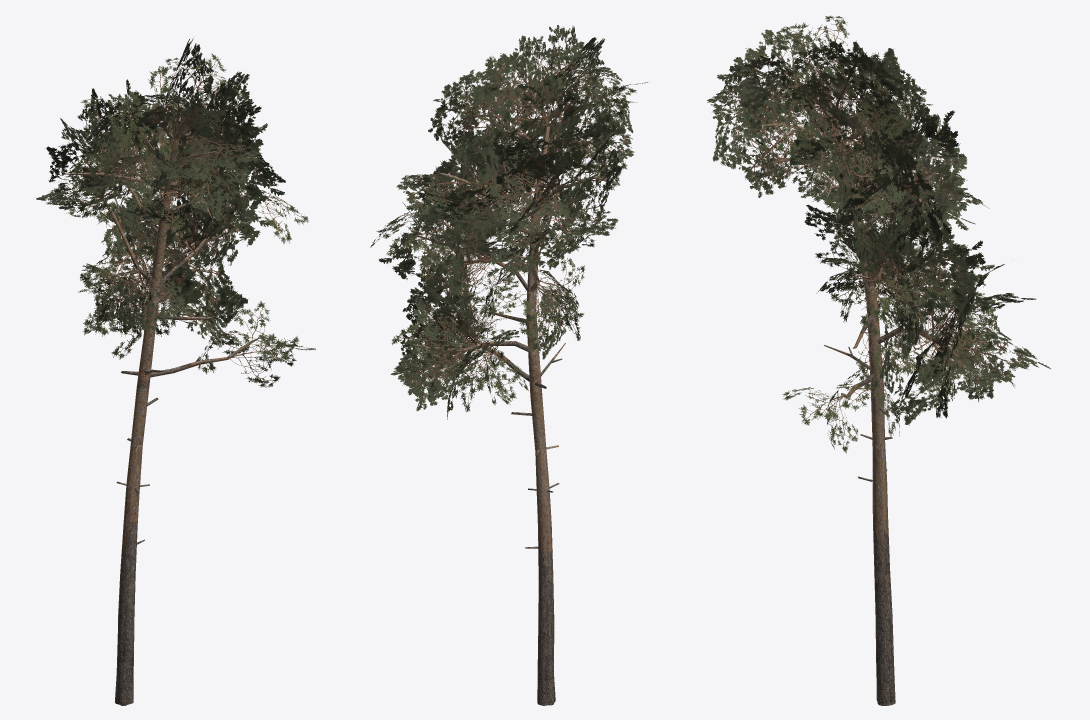
Rendered from tree_b_ref.fbx.
3 renders of one model, left to right at view 1: azimuth 30°, elevation 25°; view 2: azimuth 150°, elevation 25°; view 3: azimuth 270°, elevation 25°, orthographic. The views are drawn at different scales.
Parts seen in each view (by area): view 1: renderMesh0; view 2: renderMesh0; view 3: renderMesh0.
Part boxes in pixels (x1,y1,x2,y2): renderMesh0: (36, 38, 315, 705); renderMesh0: (370, 25, 647, 705); renderMesh0: (707, 15, 1050, 705).
Bounding box in the file's own units: 379 × 868 × 437.
Materials: 4 (4 with a texture image).
